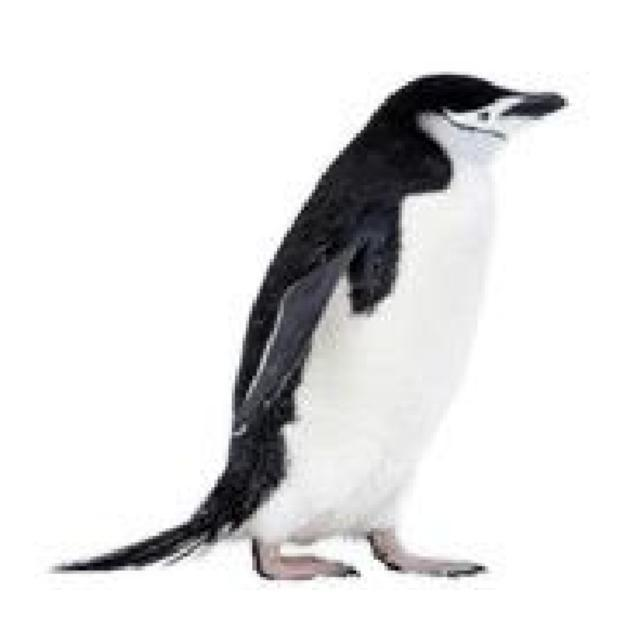penguin: (49, 74, 563, 586)
